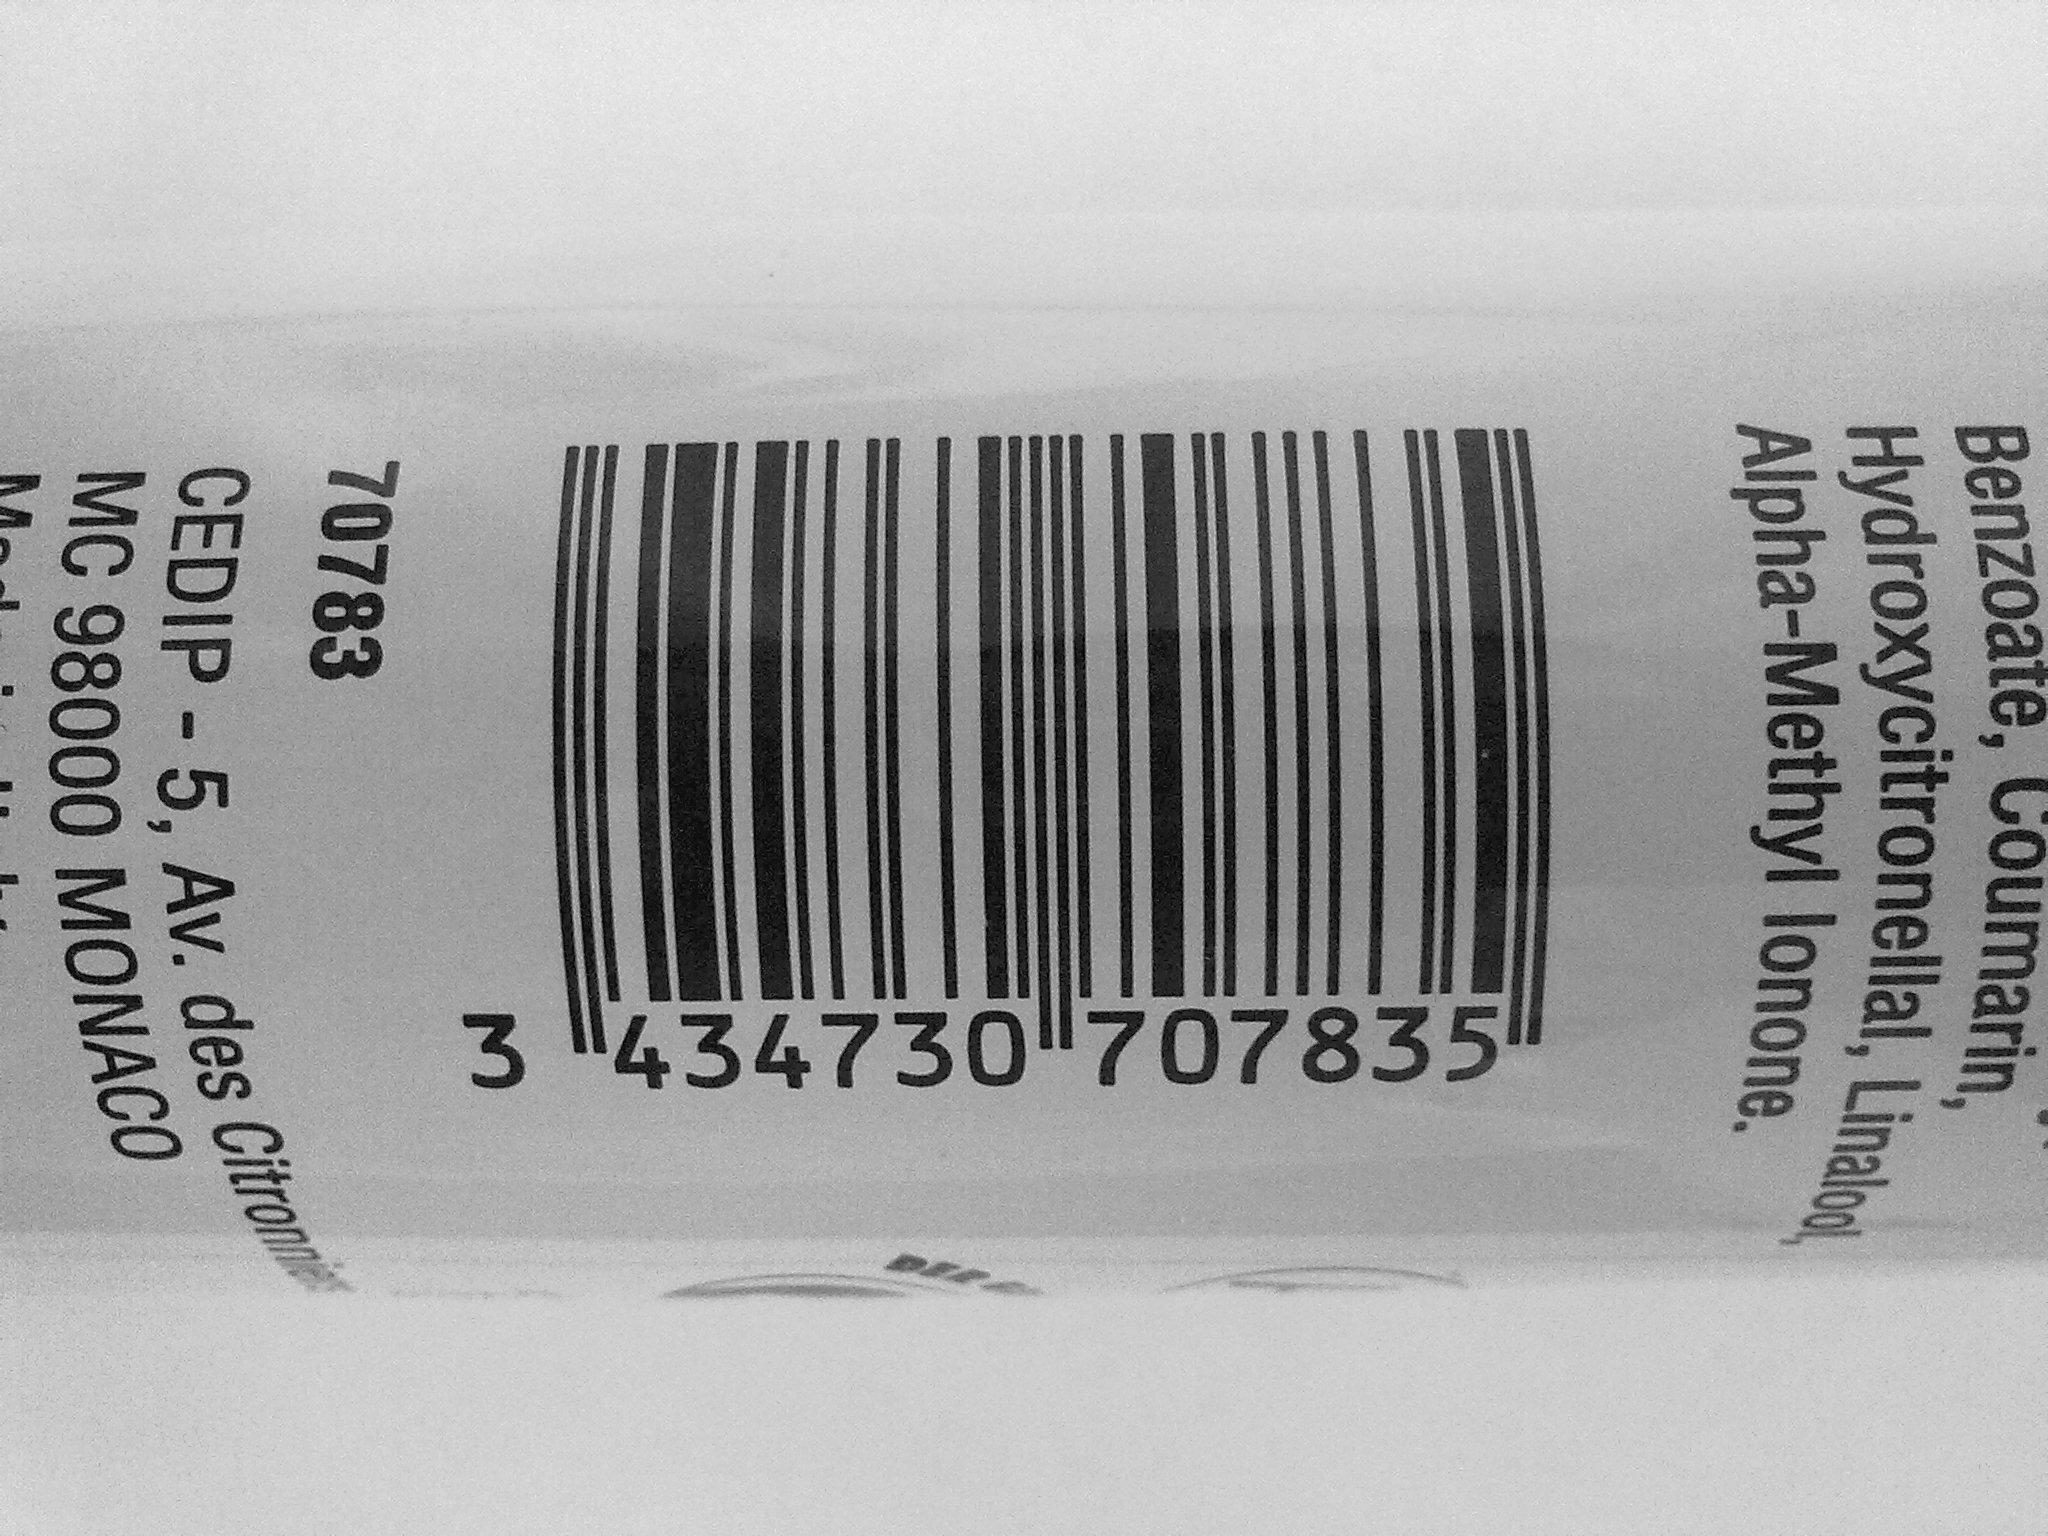Barcode: (526, 408, 1596, 1036)
